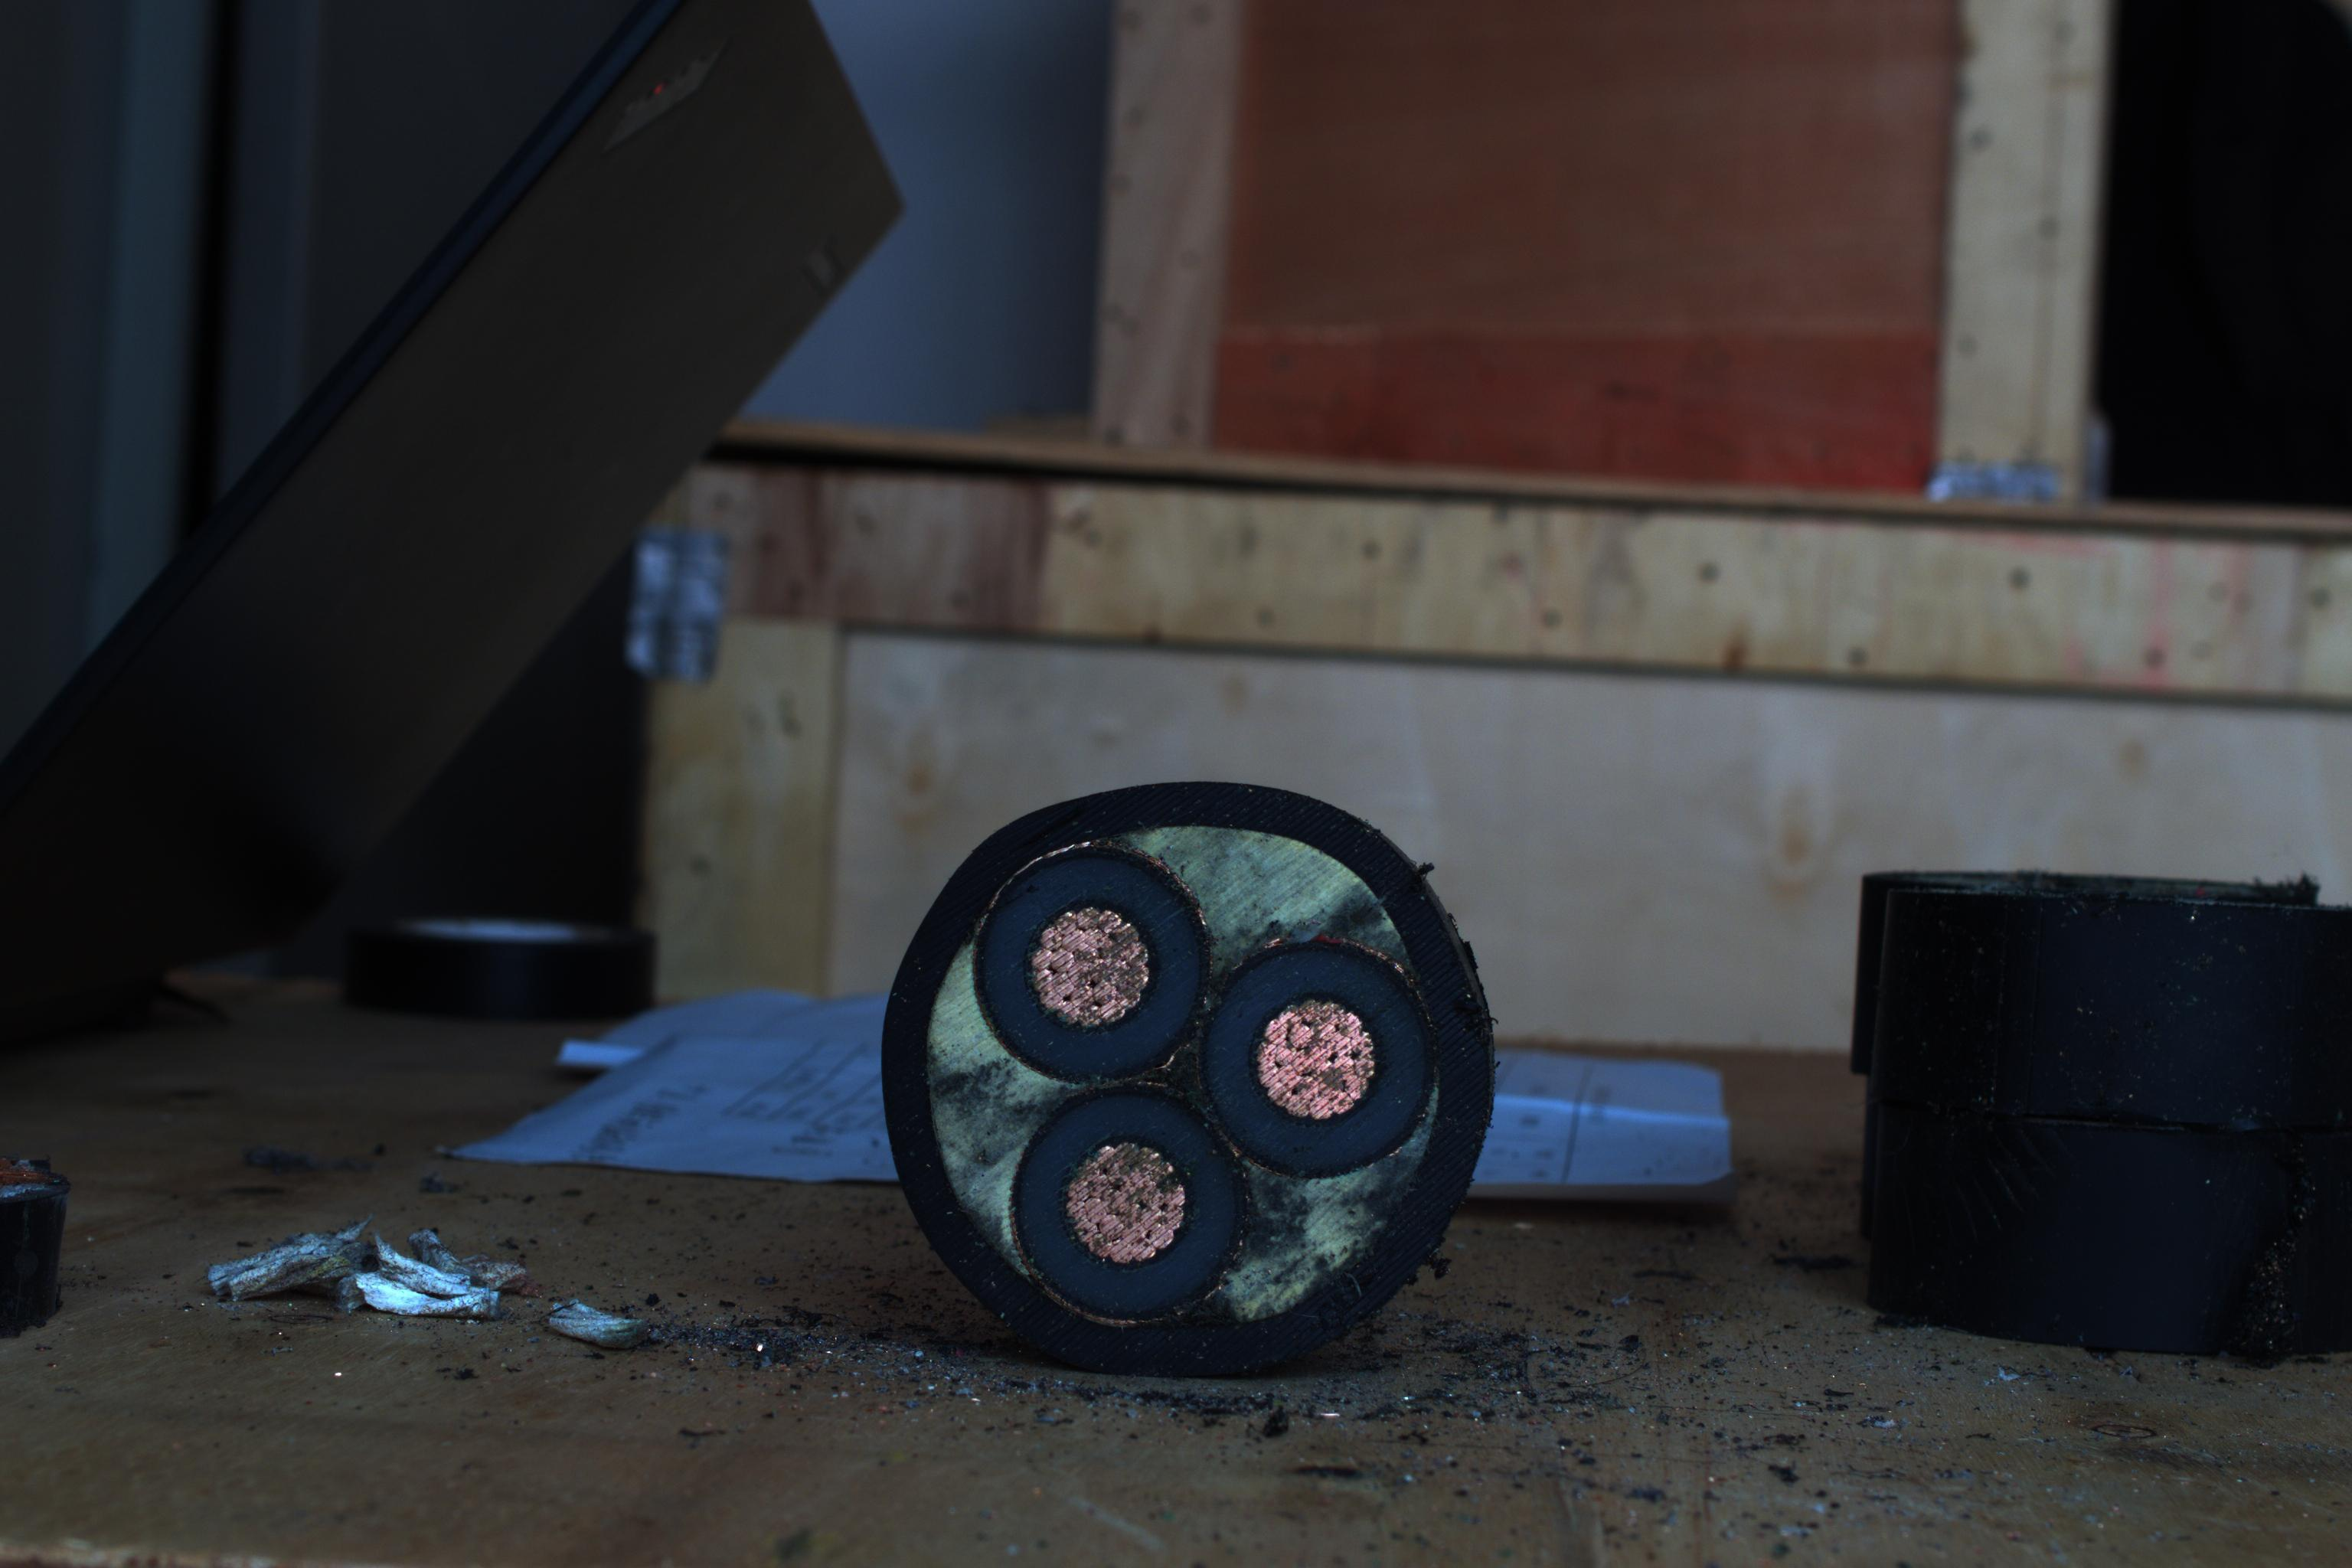ZA_YJV_8.7_10kV_3x120: (882, 765, 1505, 1354)
